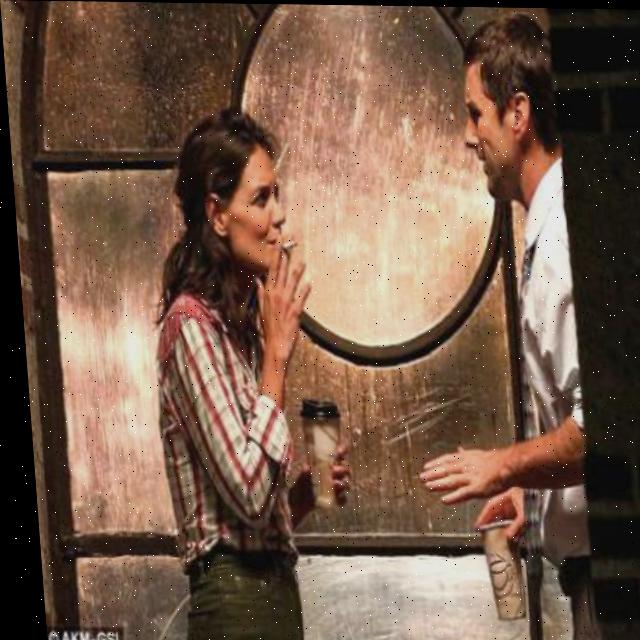cigarette: (278, 237, 294, 250)
